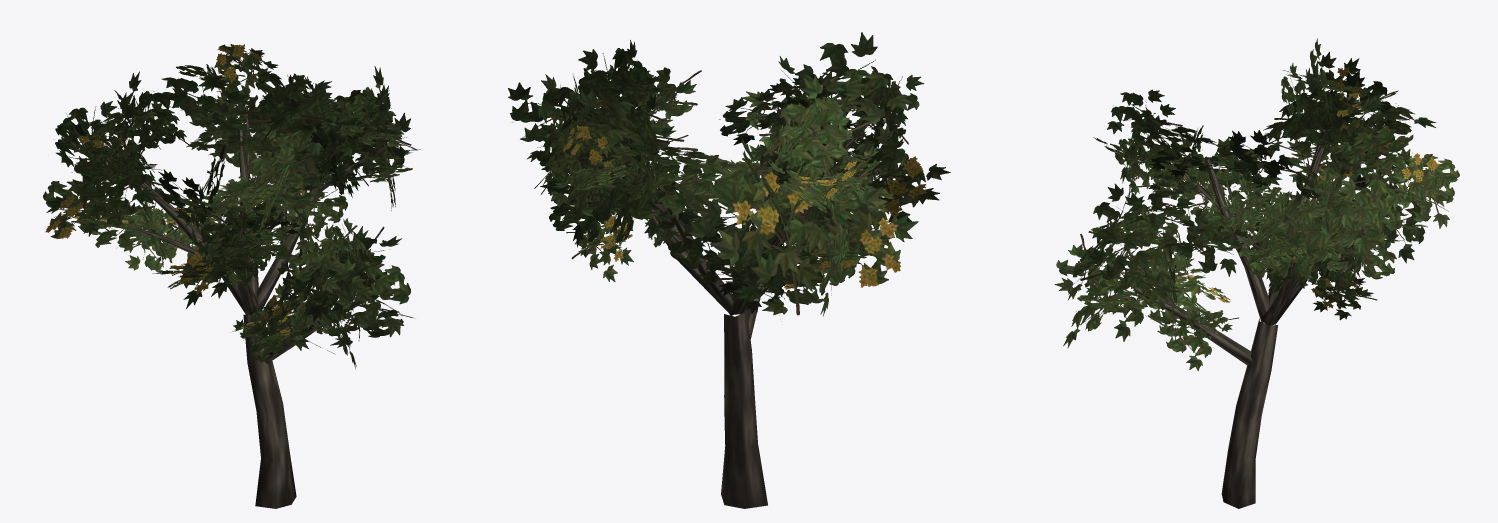
File: arvore_ipe_lod1.glb
3 views of the same model, side by side, from view 1: azimuth 30°, elevation 25°; view 2: azimuth 150°, elevation 25°; view 3: azimuth 270°, elevation 25° (orthographic). The views are drawn at different scales.
Visible parts, largest first — view 1: arvore_ipe_lod1; view 2: arvore_ipe_lod1; view 3: arvore_ipe_lod1.
Boxes of the visible parts, bbox=[...] form: arvore_ipe_lod1: bbox=[43, 44, 420, 508]; arvore_ipe_lod1: bbox=[508, 32, 950, 508]; arvore_ipe_lod1: bbox=[1054, 38, 1459, 508].
Size of the model in its own units: 8.19 by 9 by 8.53.
2 materials, 2 textured.
